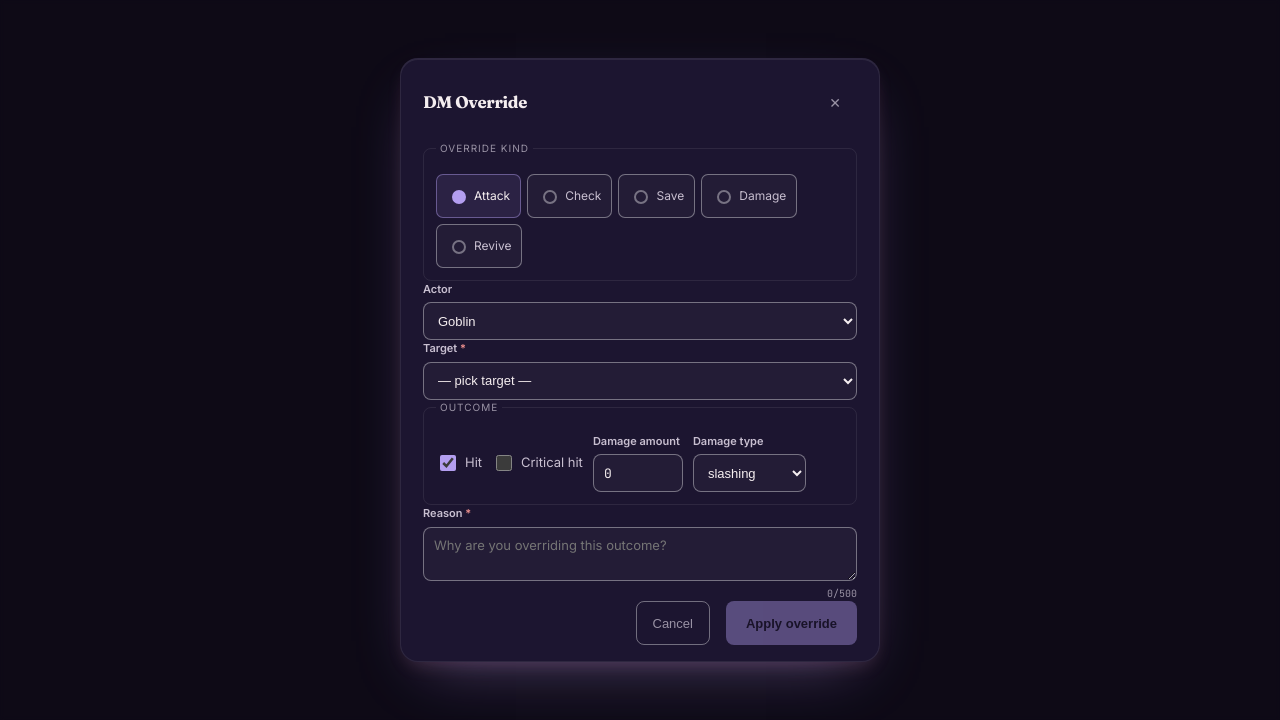
Test: wire matrix: what a hand-typed New HP puts on the wire › typed -0
The image size is (1280, 720).
Click the radio button labelled "Damage" at (724, 197), box [717,190,731,204]
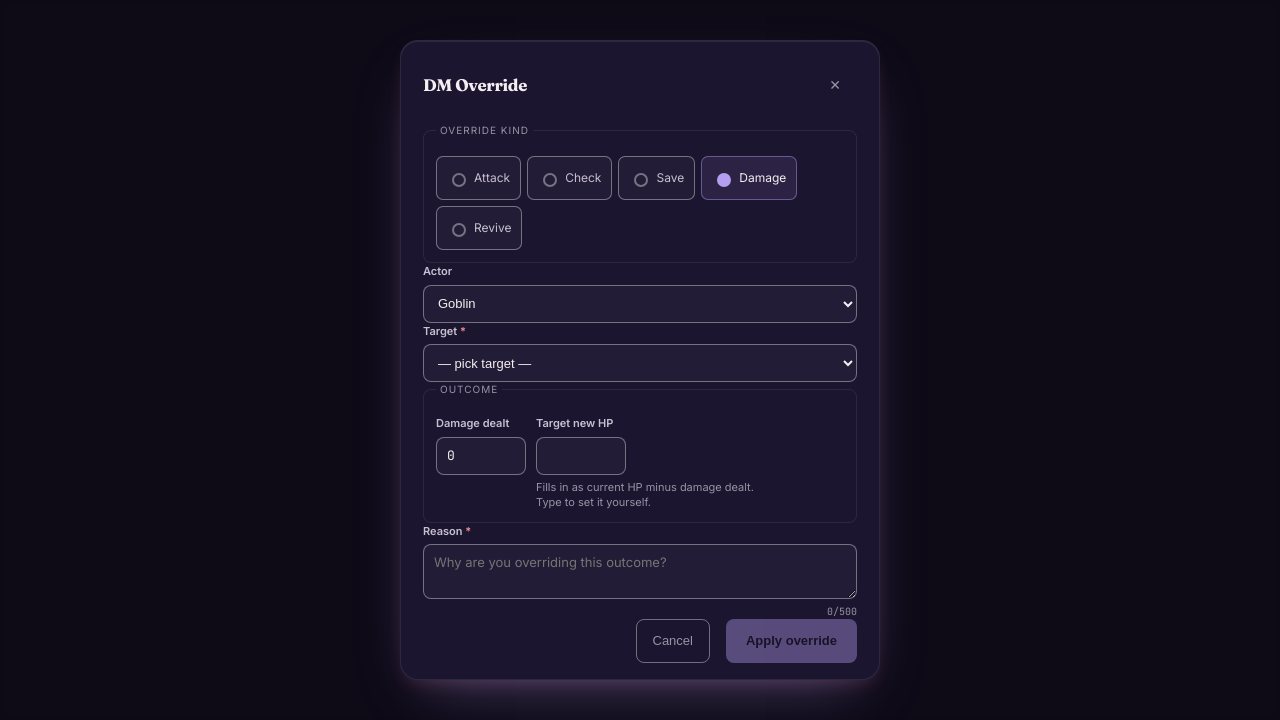
Select "Kaelen (HP 20/28)" in the dropdown labelled "Target *" at (640, 364), box [423,344,857,382]
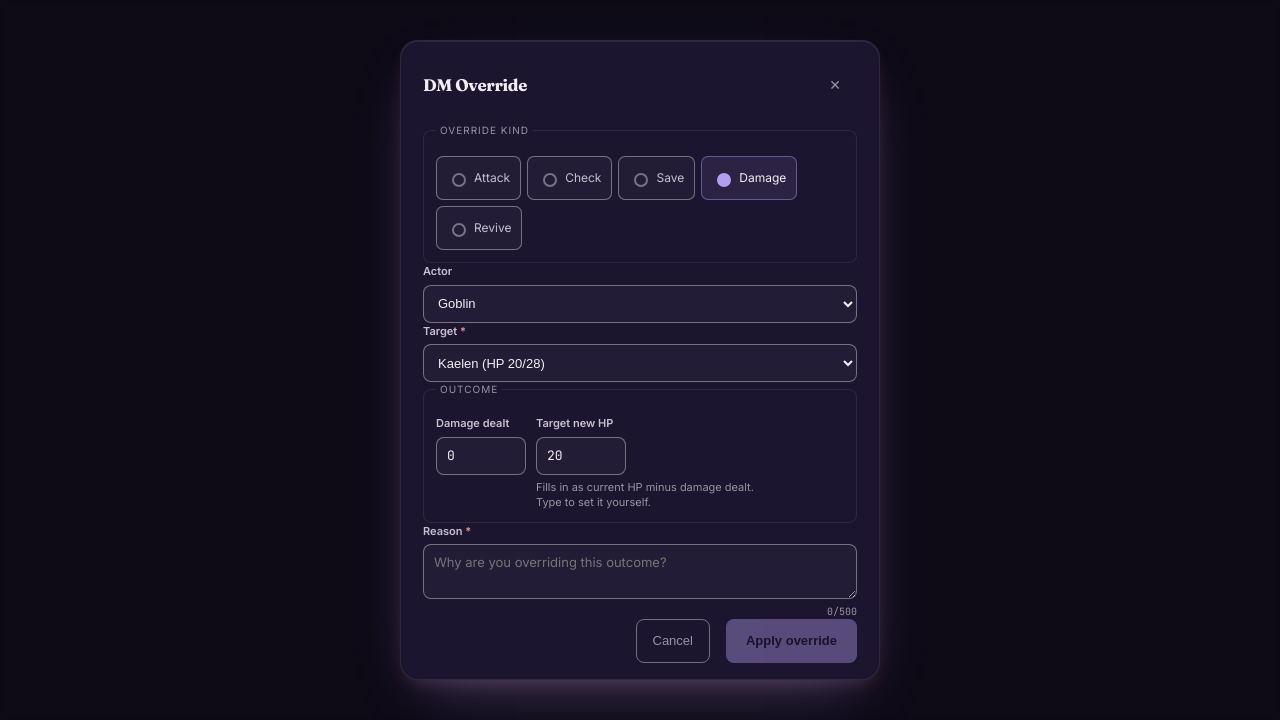
Type "ruling" into the text box labelled "Reason *" at (640, 571), box [423,544,857,599]
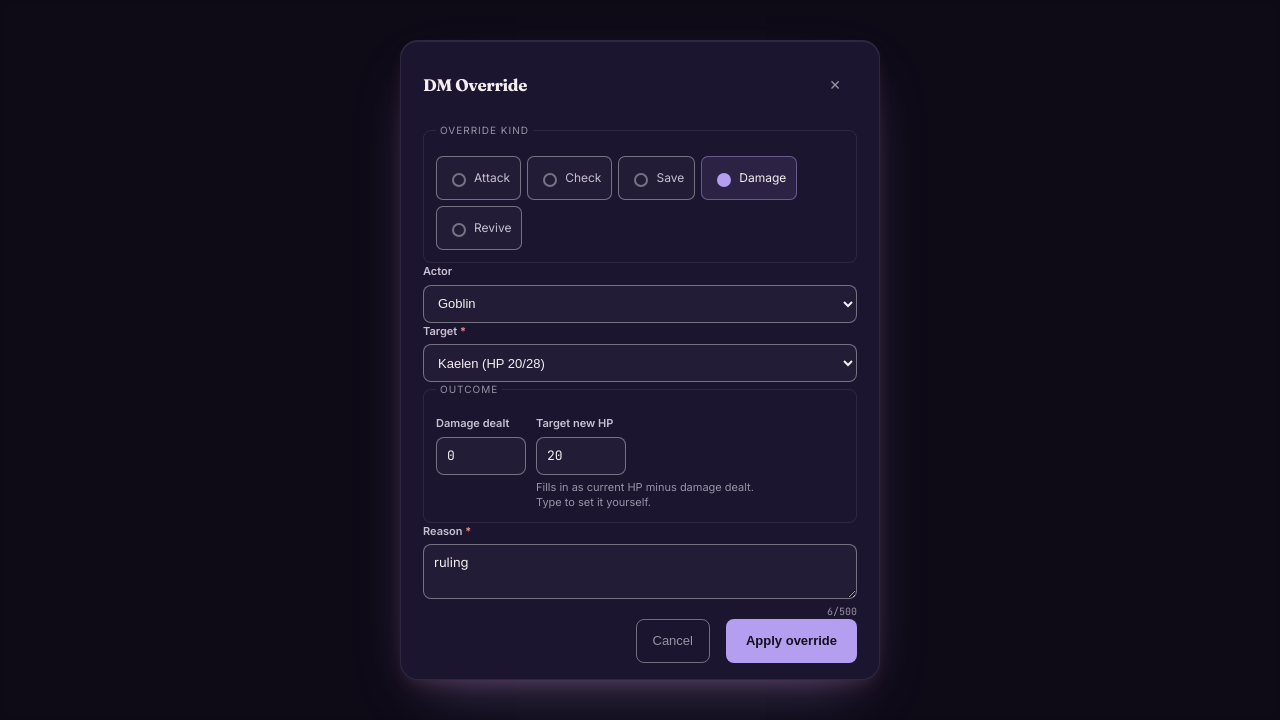
Replace the text in the number field labelled "Target new HP" with "-0" at (581, 456), box [536,437,626,475]
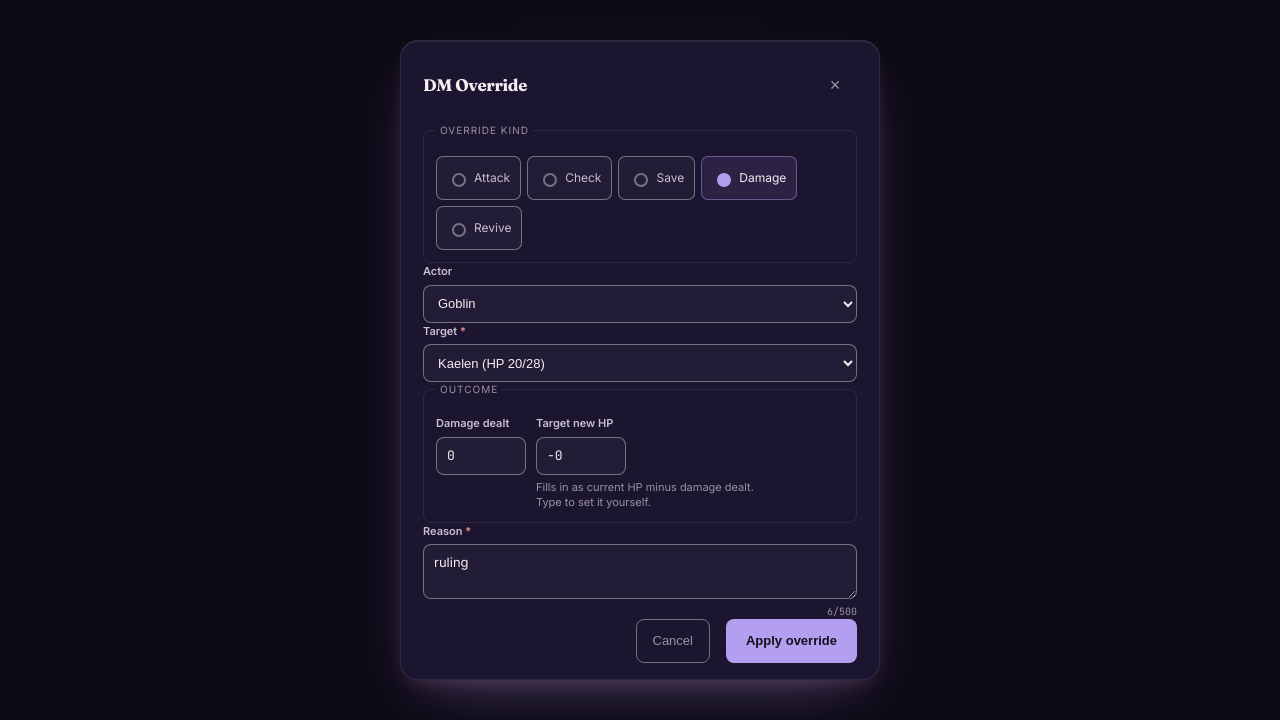
Click the button "Apply override" at (792, 640), box [726,618,857,662]
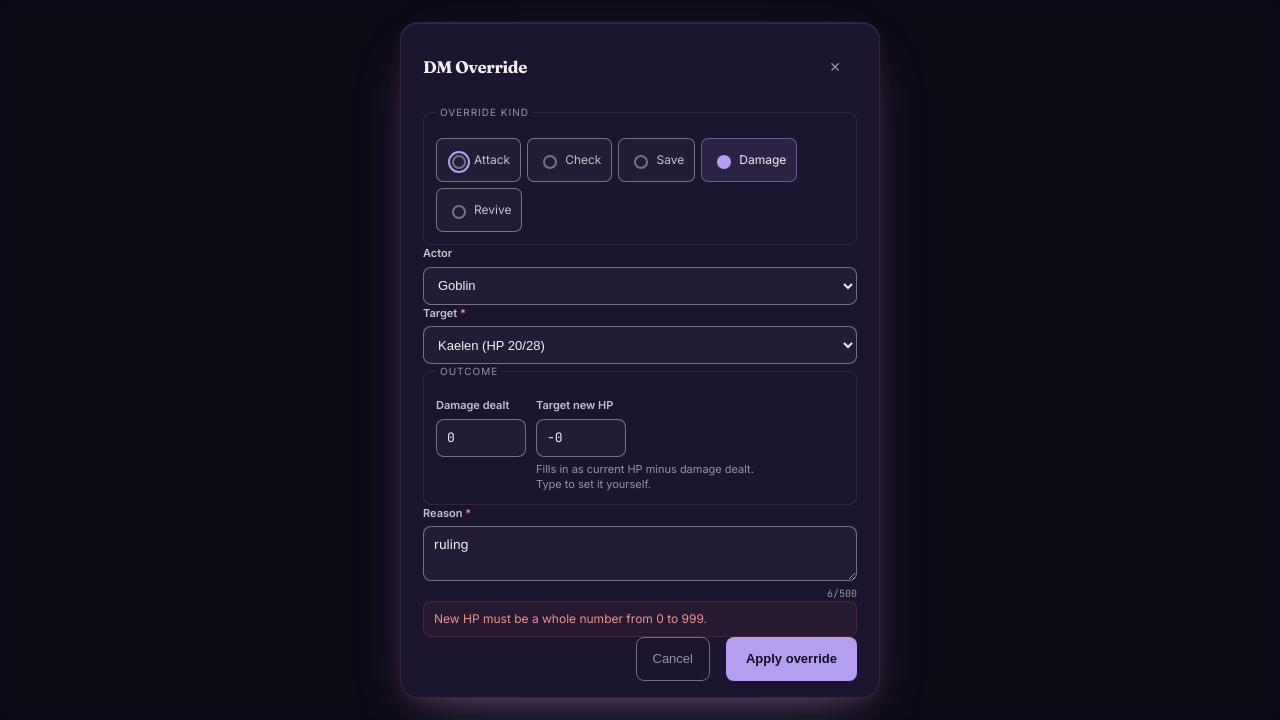
Check: the message shows "New HP", box [434,610,707,626]
